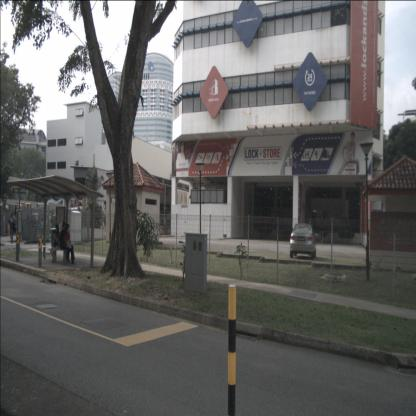cone: (6, 222, 10, 236)
